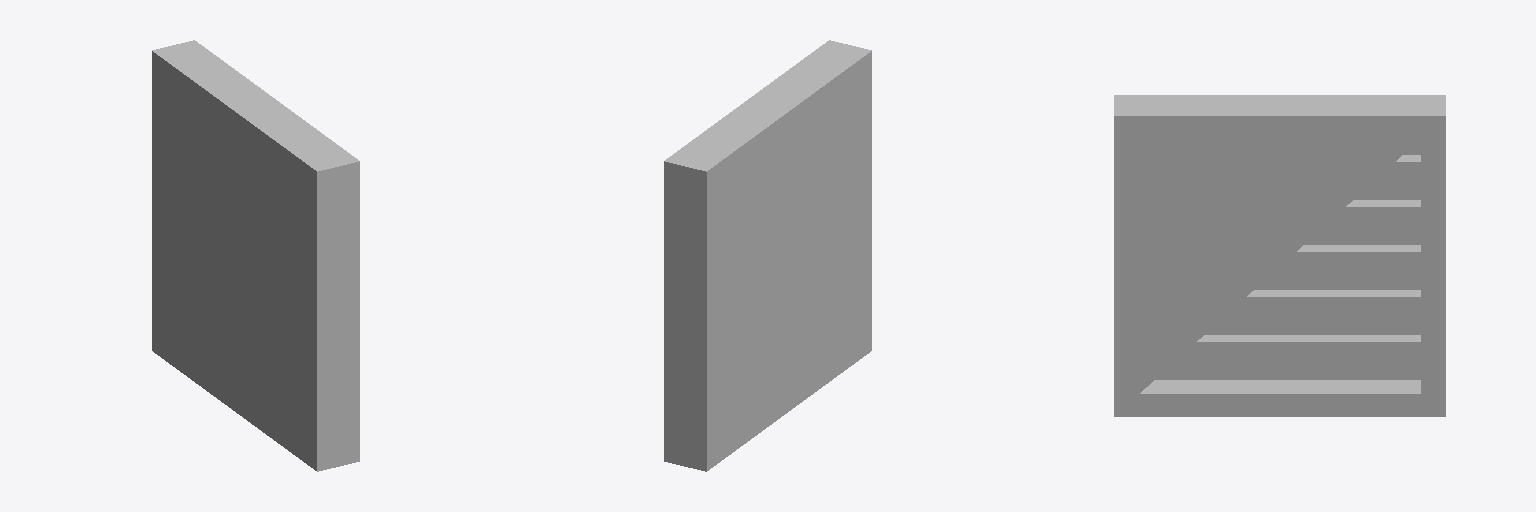
File: window5.obj
The picture shows the model from 3 angles: view 1: azimuth 30°, elevation 25°; view 2: azimuth 150°, elevation 25°; view 3: azimuth 270°, elevation 25°; orthographic projection.
Parts seen in each view (by area): view 1: window_Cube, interior_Cube.001; view 2: window_Cube, interior_Cube.001; view 3: window_Cube, interior_Cube.001.
Boxes of the visible parts, <box> form: window_Cube: <box>152,40,359,471</box>; interior_Cube.001: <box>164,82,304,439</box>; window_Cube: <box>664,40,871,471</box>; interior_Cube.001: <box>719,83,859,439</box>; window_Cube: <box>1114,95,1445,416</box>; interior_Cube.001: <box>1155,139,1420,379</box>.
Bounding box in the file's own units: 0.3 × 2 × 2.